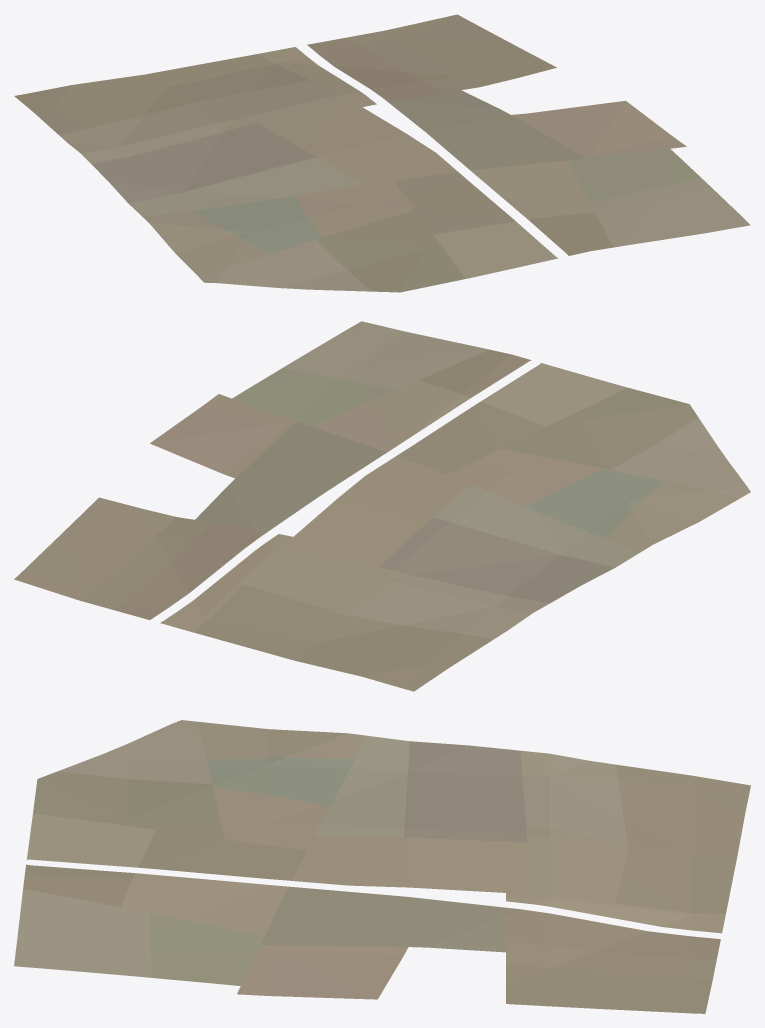
Rendered from farm_-3_9_soil.glb.
The picture shows the model from 3 angles, top to bottom: view 1: azimuth 30°, elevation 25°; view 2: azimuth 150°, elevation 25°; view 3: azimuth 270°, elevation 25°; orthographic projection. The views are drawn at different scales.
Visible parts, largest first — view 1: geometry_0; view 2: geometry_0; view 3: geometry_0.
Part boxes in pixels (bbox=[...]): geometry_0: bbox=[14, 14, 750, 292]; geometry_0: bbox=[14, 321, 750, 691]; geometry_0: bbox=[14, 720, 750, 1013].
Size of the model in its own units: 361 by 27.59 by 418.
